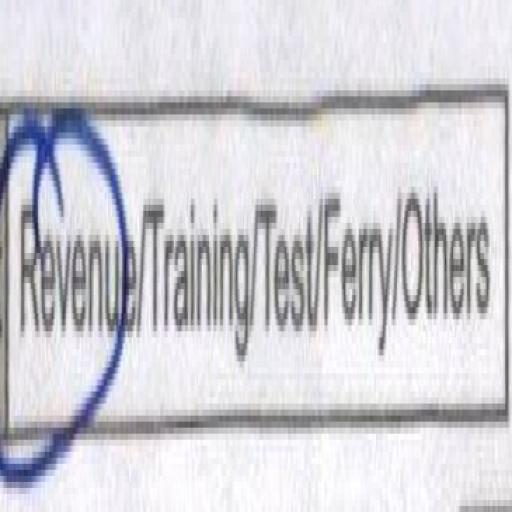check: (3, 54, 138, 504)
